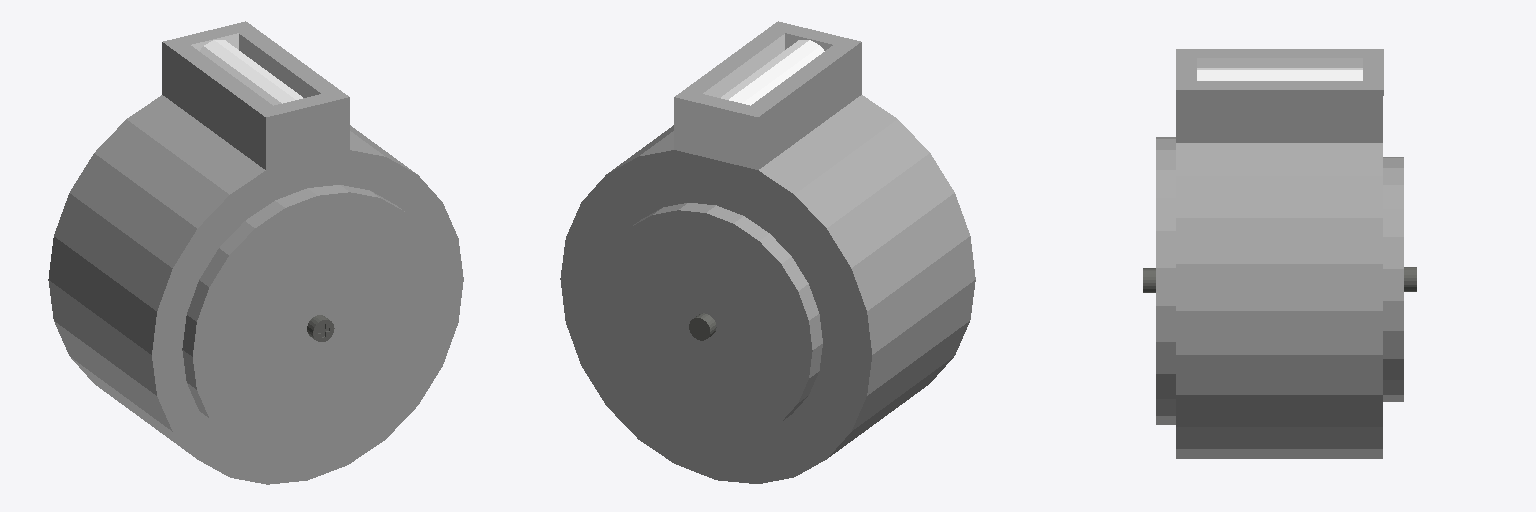
The model's file is Magazine_75Round.obj.
The picture shows the model from 3 angles: view 1: azimuth 30°, elevation 25°; view 2: azimuth 150°, elevation 25°; view 3: azimuth 270°, elevation 25°; orthographic projection.
Visible parts, largest first — view 1: Mesh1 Model; view 2: Mesh1 Model; view 3: Mesh1 Model.
Boxes of the visible parts, x1=… form: Mesh1 Model: x1=48, y1=21, x2=463, y2=484; Mesh1 Model: x1=560, y1=21, x2=975, y2=483; Mesh1 Model: x1=1143, y1=49, x2=1416, y2=458.
Size of the model in its own units: 8.76 by 10.01 by 6.64.